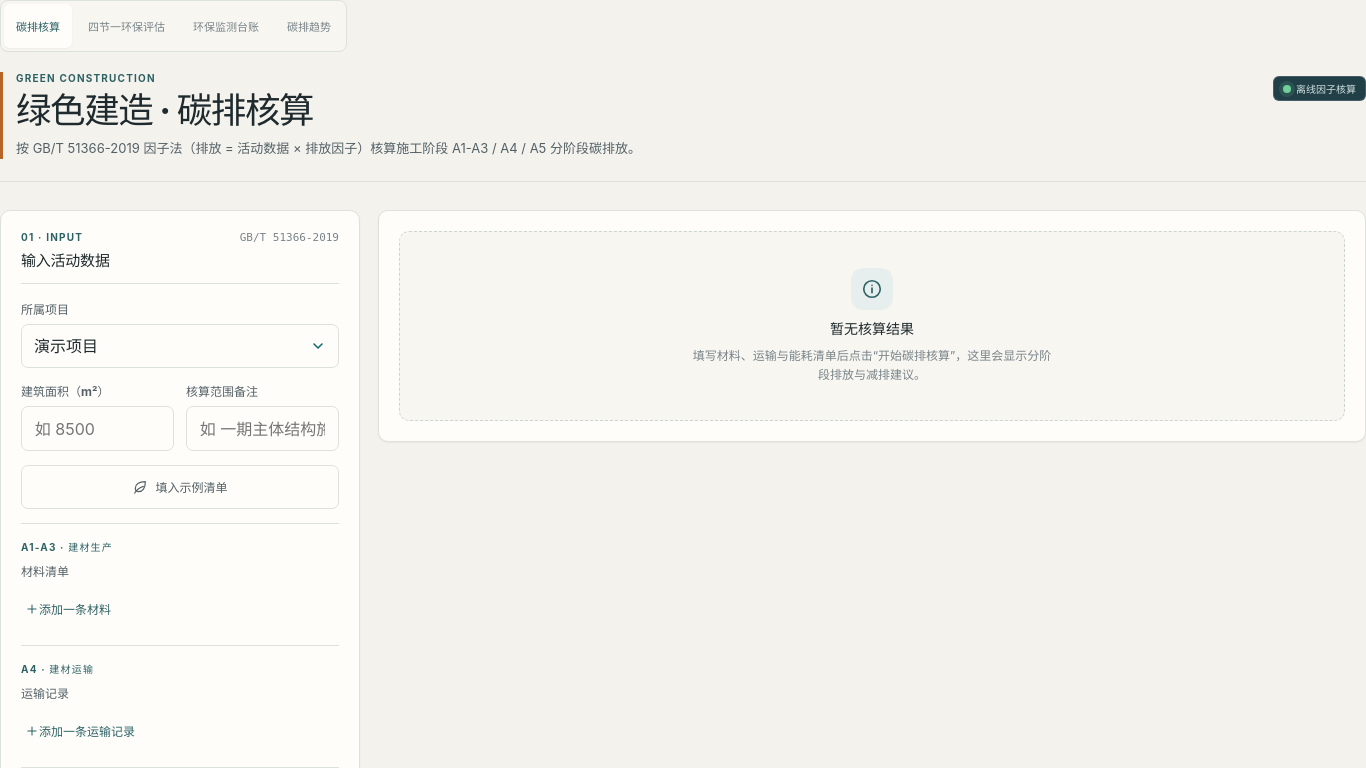
Scenario: GreenConstructionView 扩展 Tab › 趋势页绘制强度折线与当前达标状态
Click the button "碳排趋势": x=309, y=26 [275,4,343,48]
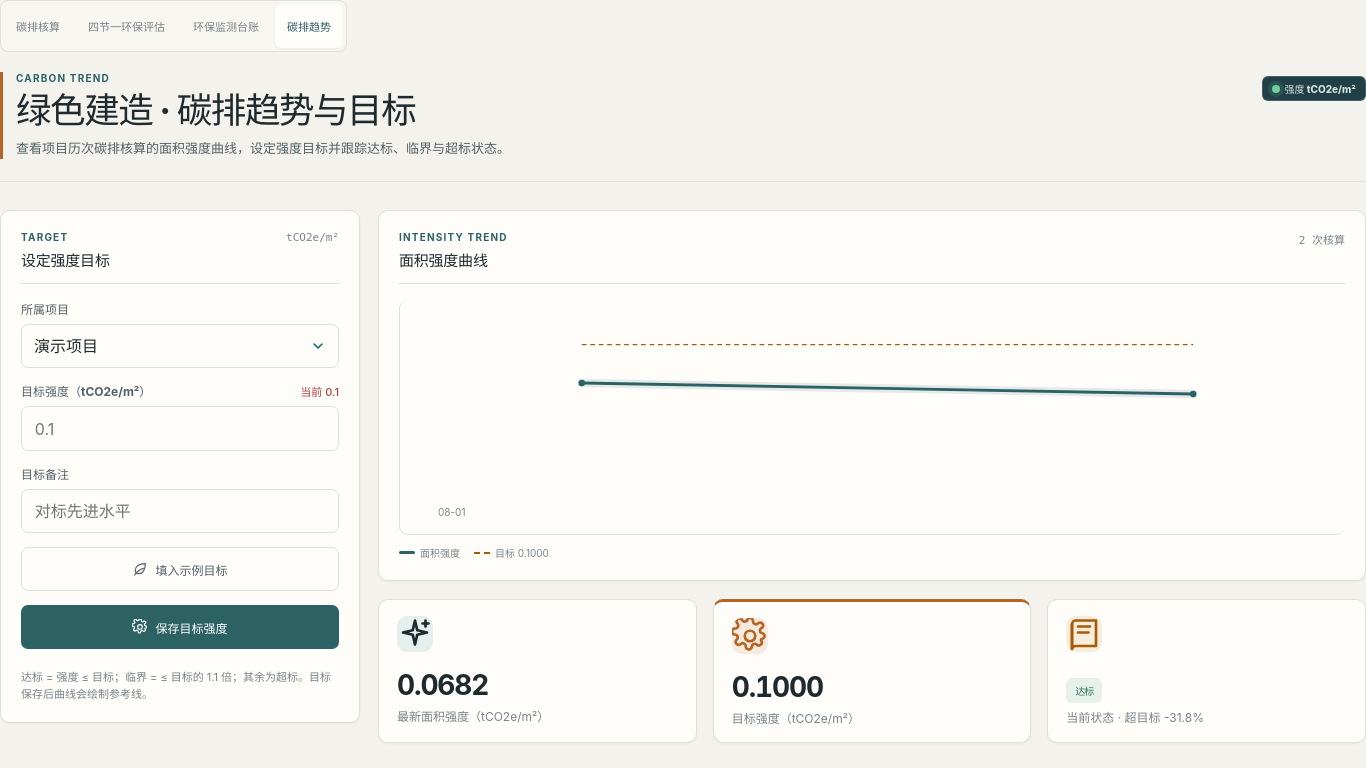
Expected: the element with class "trend-line" is shown, [582,383,1193,394]
Now the text "达标" is shown, box [16,138,510,159]
